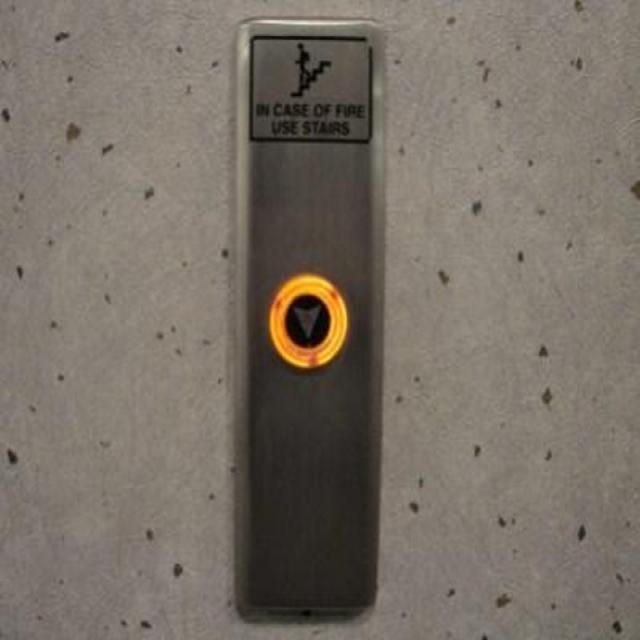down: (267, 272, 347, 368)
